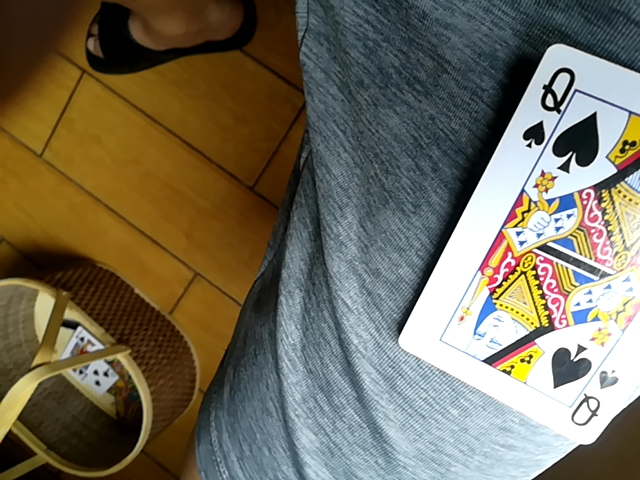ht q: (399, 46, 640, 459)
